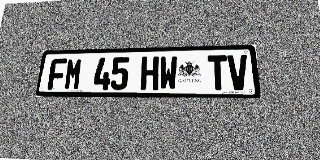4: (93, 57, 112, 90)
5: (110, 57, 129, 90)
F: (47, 58, 67, 90)
H: (140, 56, 159, 90)
M: (63, 58, 83, 90)
T: (208, 55, 228, 90)
V: (227, 54, 249, 90)
W: (159, 56, 177, 90)
